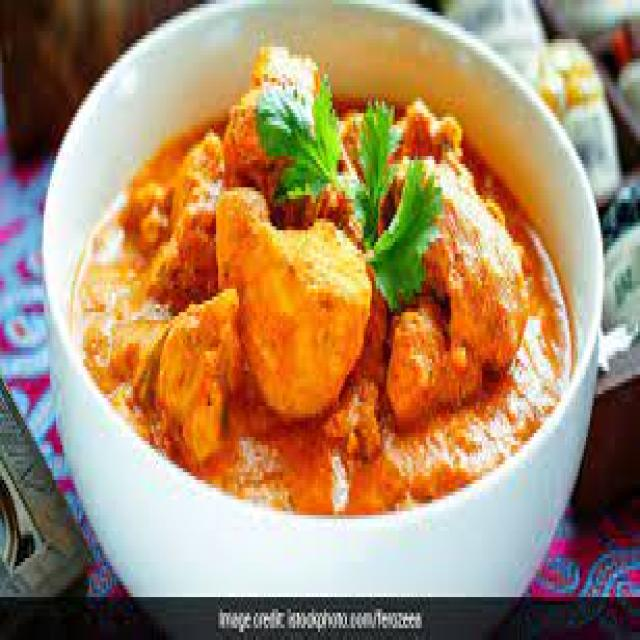Frango: (70, 62, 576, 512)
